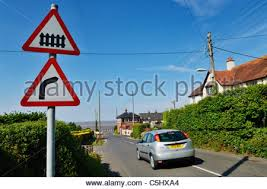Bend_to_right: (20, 56, 81, 107)
car: (134, 127, 197, 170)
